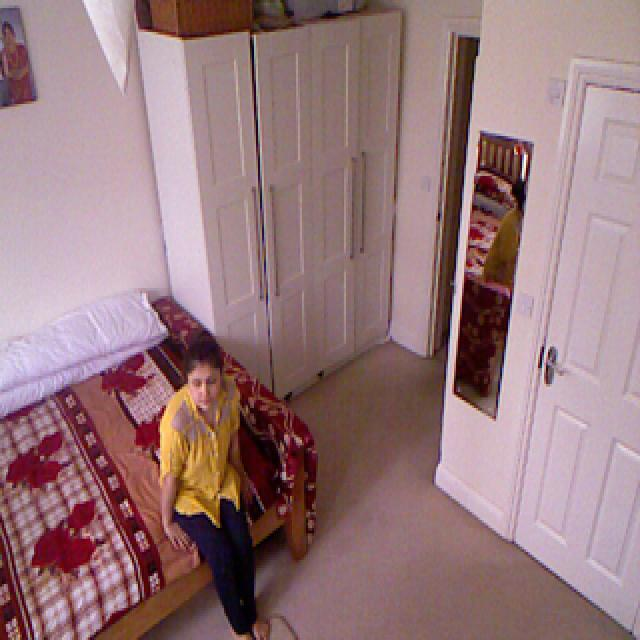sitting: (154, 336, 274, 640)
